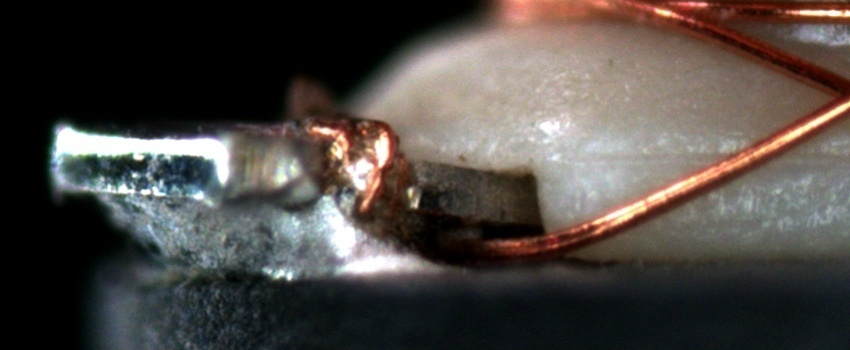CL: (804, 64, 849, 130)
DL: (585, 128, 849, 186)
TE: (293, 103, 409, 220)
